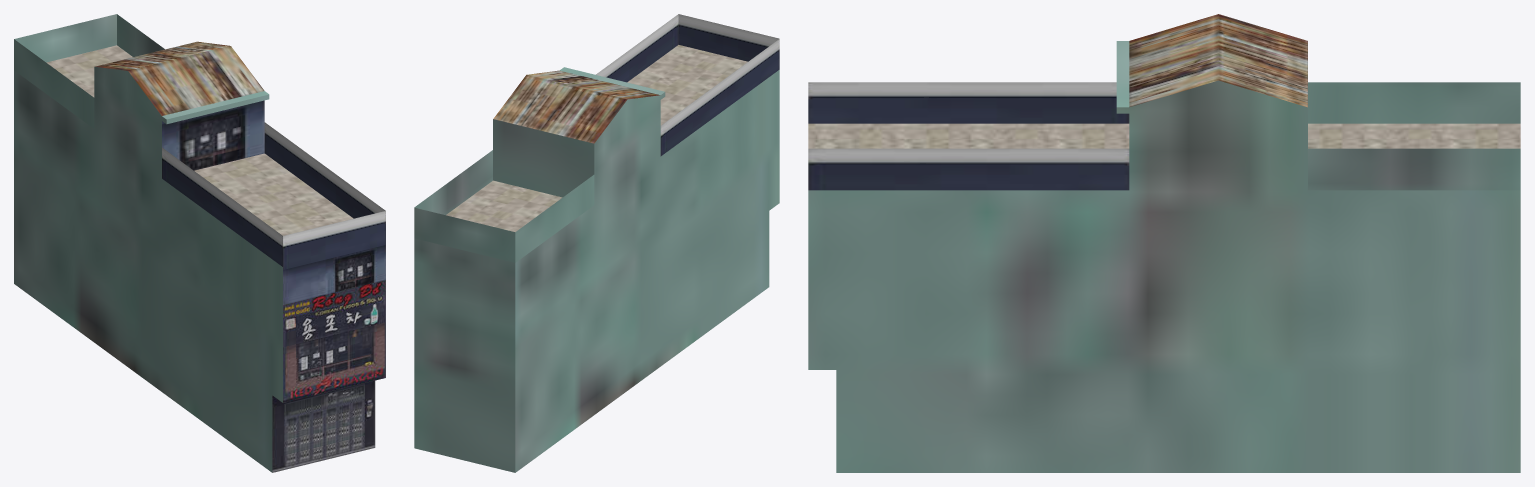
3 renders of one model, left to right at view 1: azimuth 30°, elevation 25°; view 2: azimuth 150°, elevation 25°; view 3: azimuth 270°, elevation 25°, orthographic. The views are drawn at different scales.
Visible parts, largest first — view 1: 5da991475ae8de1460fc46f6.001; view 2: 5da991475ae8de1460fc46f6.001; view 3: 5da991475ae8de1460fc46f6.001.
Boxes of the visible parts, bbox=[...] form: 5da991475ae8de1460fc46f6.001: bbox=[14, 14, 385, 472]; 5da991475ae8de1460fc46f6.001: bbox=[414, 14, 779, 472]; 5da991475ae8de1460fc46f6.001: bbox=[808, 14, 1520, 472].
Bounding box in the file's own units: 5.55 × 15.27 × 25.11.
1 material, 1 textured.
